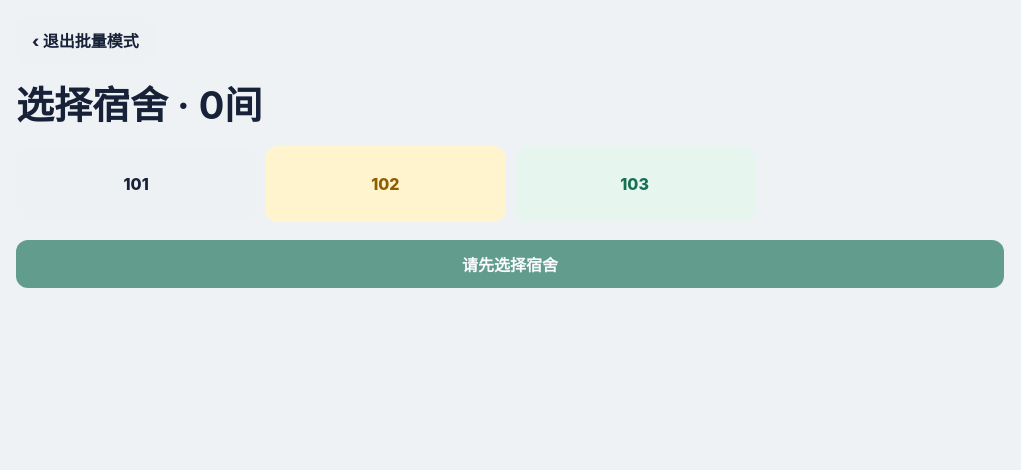
Test: BuildingMatrix › requires a selection before advancing and lists exact rooms
The width and height of the screenshot is (1021, 470).
Expected: the button "请先选择宿舍" is disabled, x1=16 y1=240 x2=1004 y2=288
Click the button named "选择101" at (136, 184), box x1=16 y1=146 x2=256 y2=222
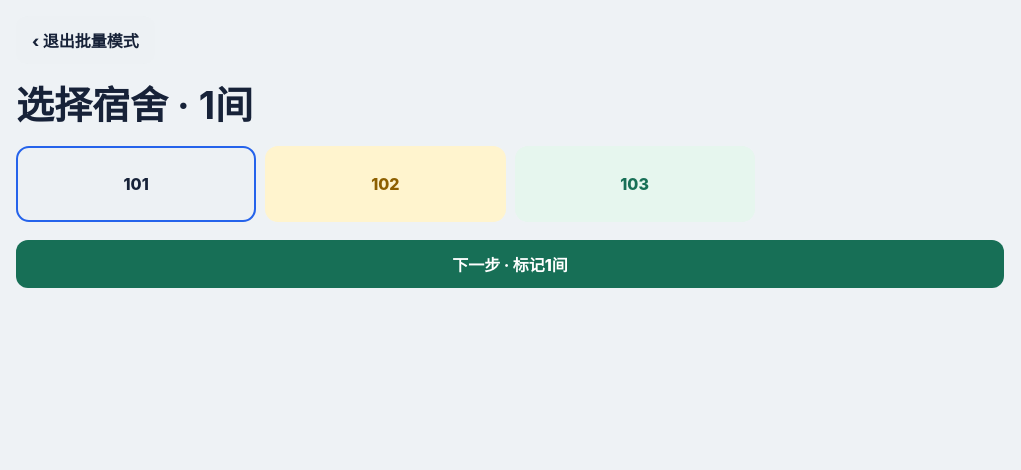
Click the button named "选择103" at (635, 184), box x1=514 y1=146 x2=755 y2=222
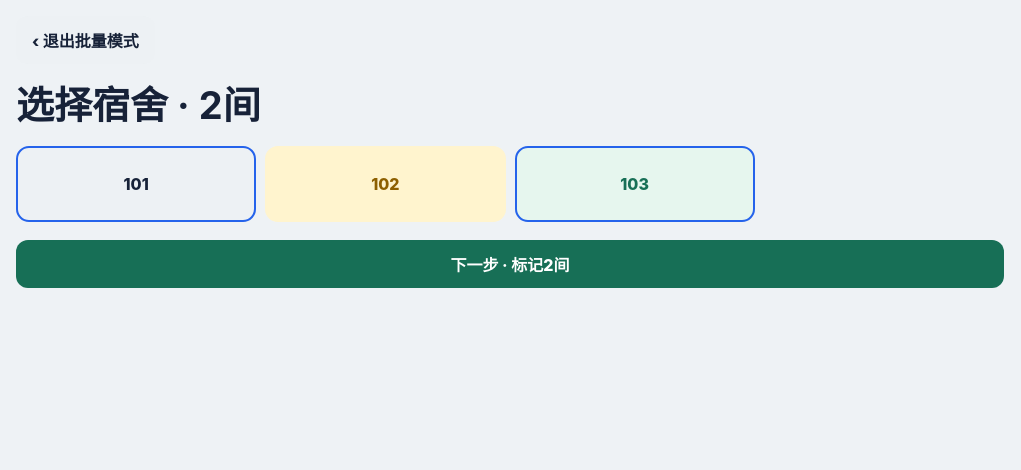
Now the heading "选择宿舍 · 2间" is shown, box x1=16 y1=82 x2=261 y2=128
Click the button "下一步 · 标记2间" at (510, 264), box x1=16 y1=240 x2=1004 y2=288
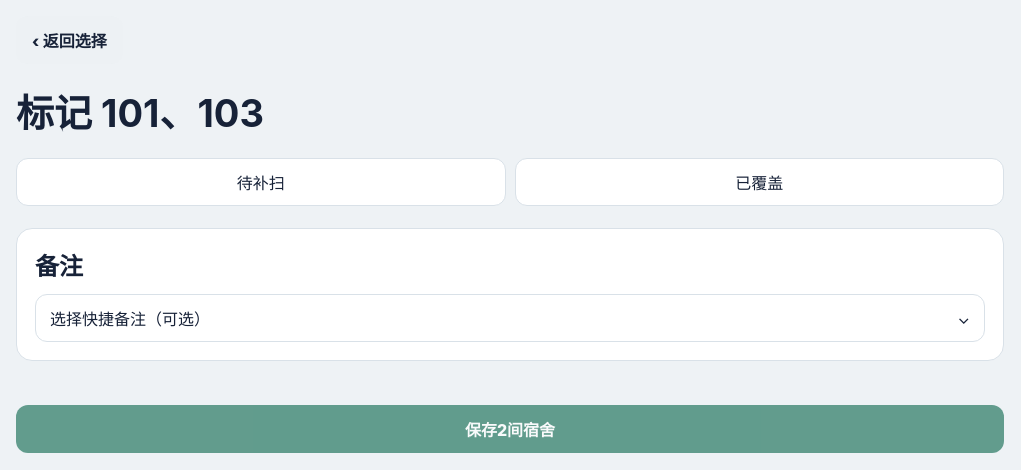
Now the heading "标记 101、103" is shown, box x1=16 y1=90 x2=264 y2=136
Now the link "‹ 返回选择" is shown, box x1=16 y1=16 x2=123 y2=64
